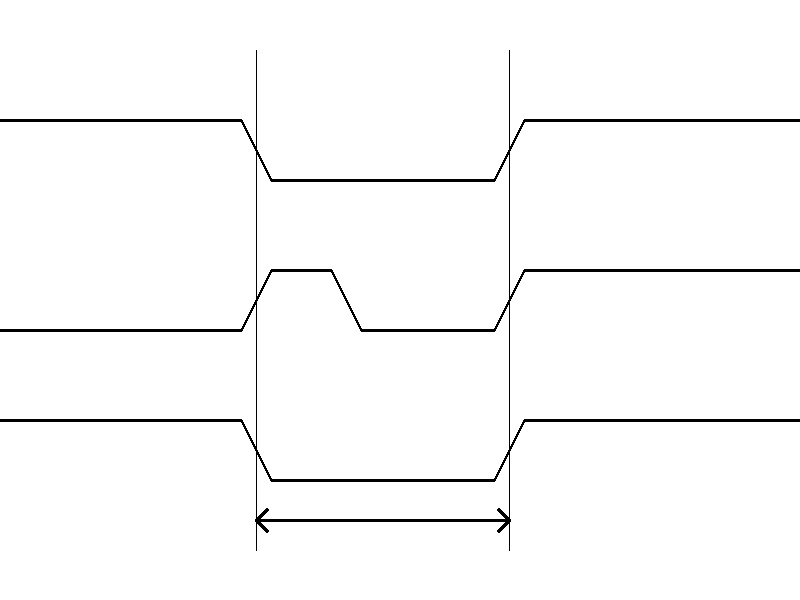double_arrow: (256, 505, 509, 535)
